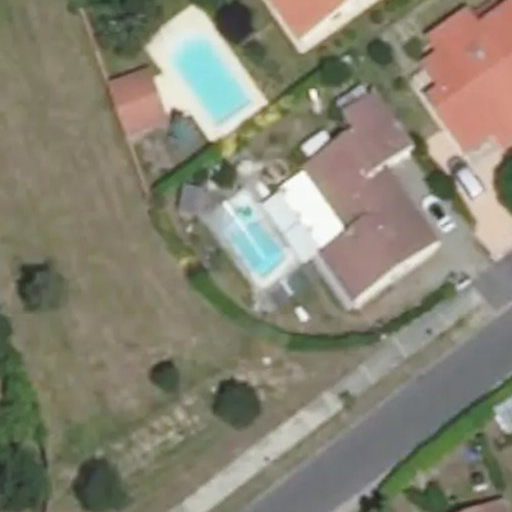pool: (170, 38, 257, 124), (227, 213, 289, 279)
